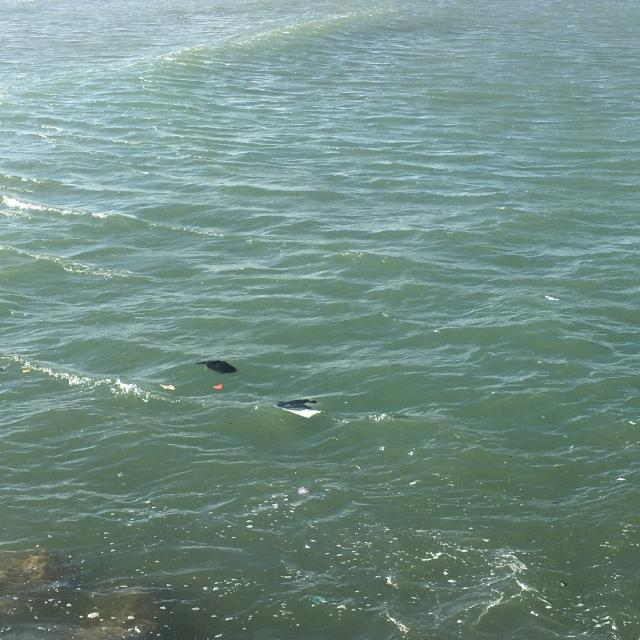Plastic bag: (194, 358, 238, 376), (275, 398, 319, 412), (281, 407, 324, 419)
Plastic packaging: (159, 383, 177, 392), (212, 383, 224, 390)
